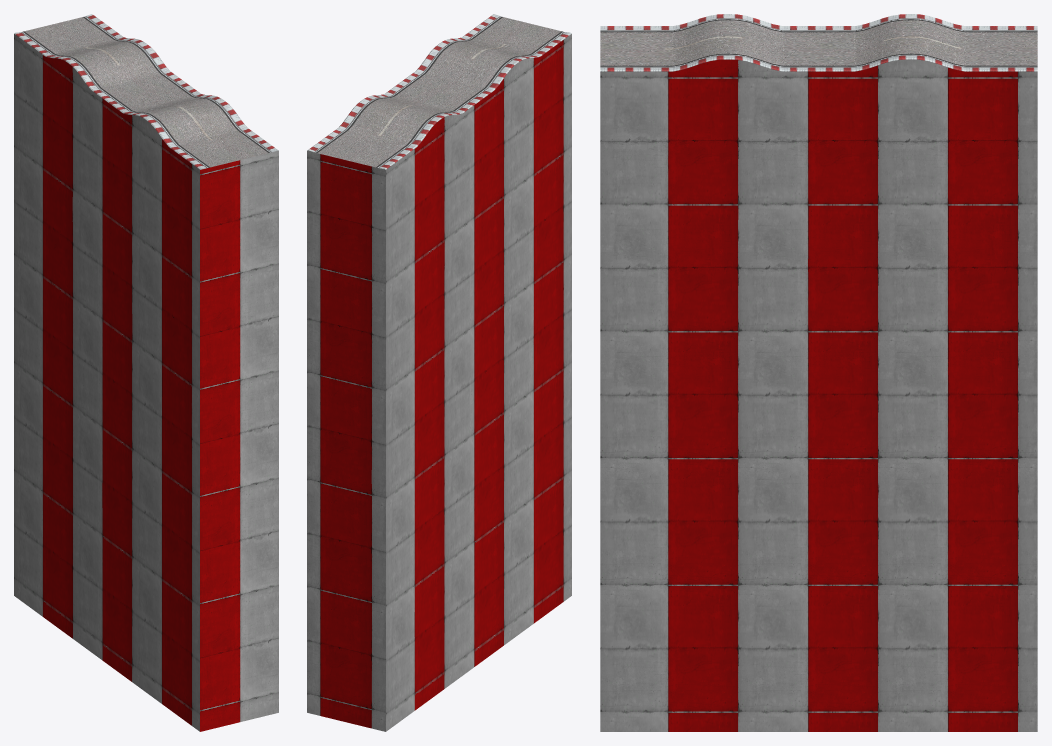
Rendered from track6.fbx.
3 views of the same model, side by side, from view 1: azimuth 30°, elevation 25°; view 2: azimuth 150°, elevation 25°; view 3: azimuth 270°, elevation 25° (orthographic). The views are drawn at different scales.
Visible parts, largest first — view 1: polySurface2; view 2: polySurface2; view 3: polySurface2.
Part boxes in pixels (x1,y1,x2,y2): polySurface2: (14,14,278,731); polySurface2: (307,14,571,731); polySurface2: (600,14,1037,731).
Bounding box in the file's own units: 3391 × 23557 × 13860.
